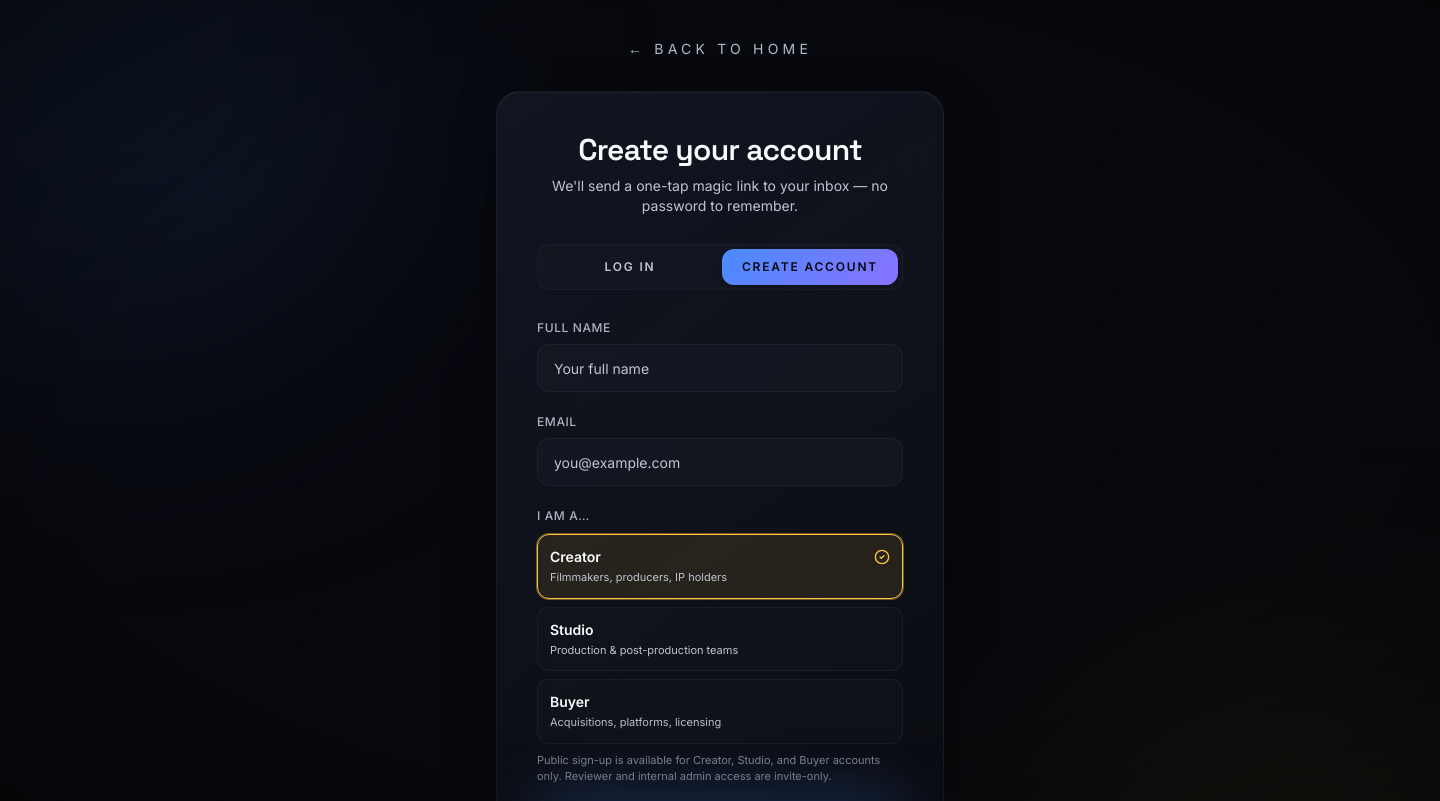
Test: Stop 2 — Create Account page › filling in form and clicking Send transitions to 'Check your inbox' state
Type "Jane Creator" into the field with placeholder "Your full name" at (720, 368), box [537,344,903,392]
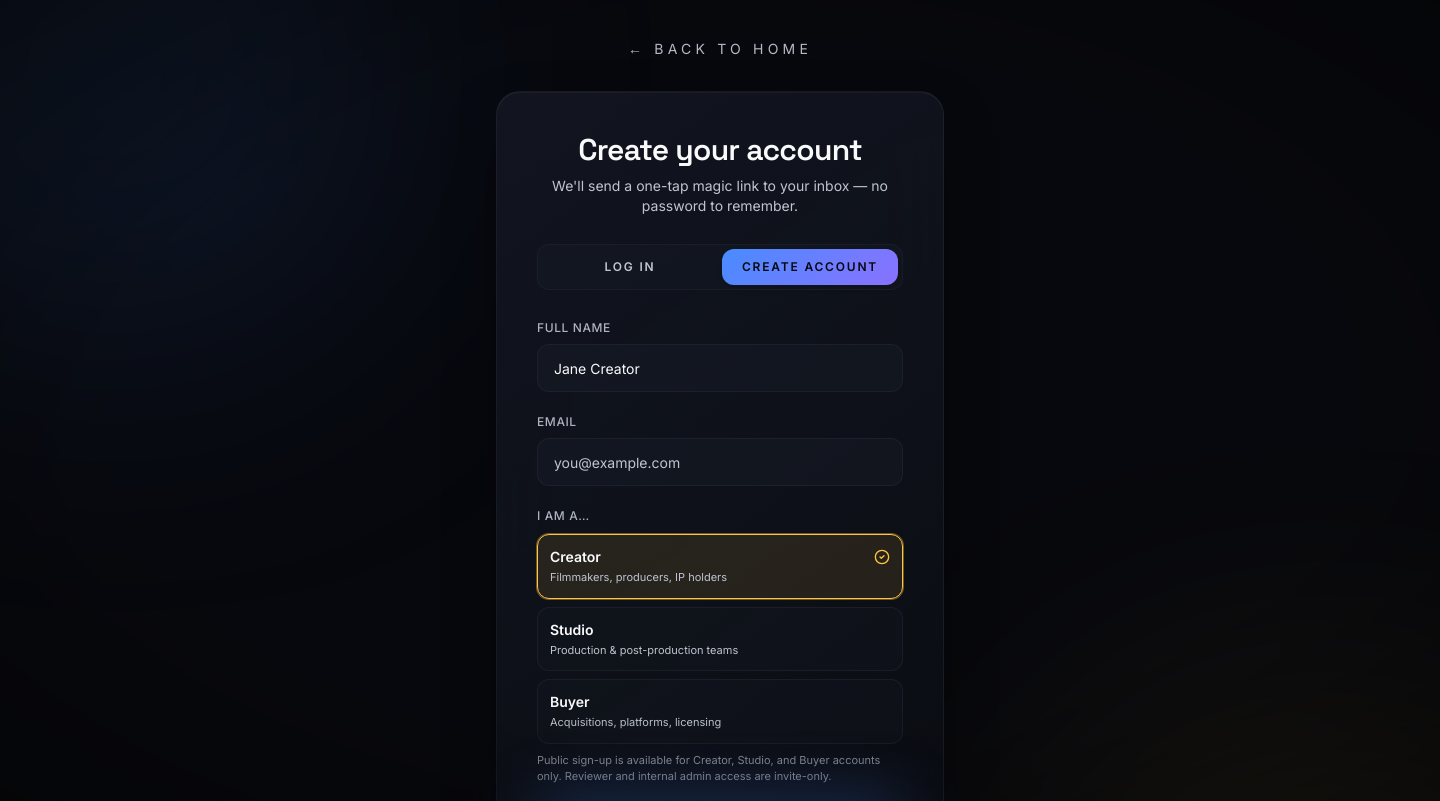
Type "jane@example.com" into the field with placeholder "you@example.com" at (720, 462), box [537,438,903,486]
(page scrolled)
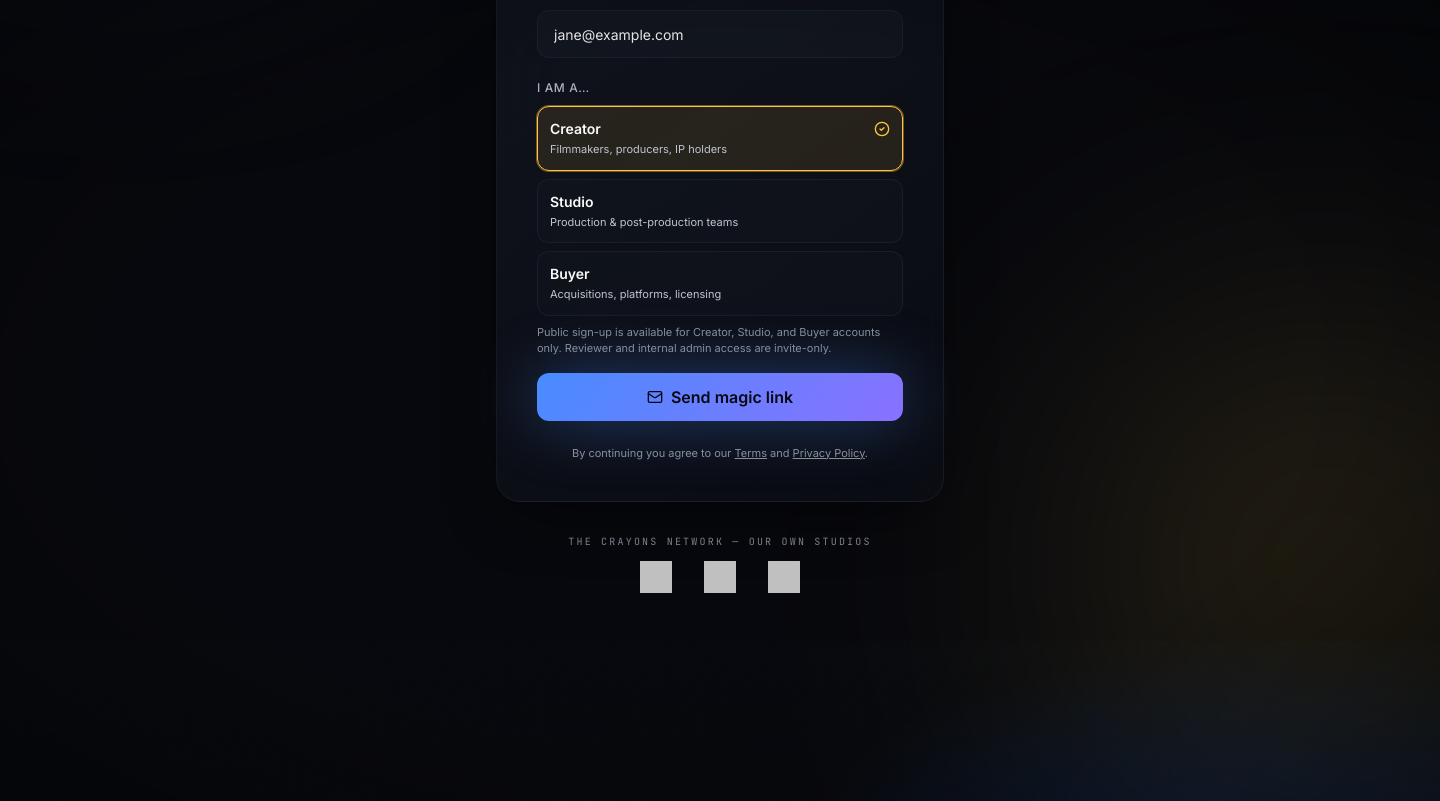
Click the button "Send magic link" at (720, 396), box [537,372,903,420]
(page scrolled)
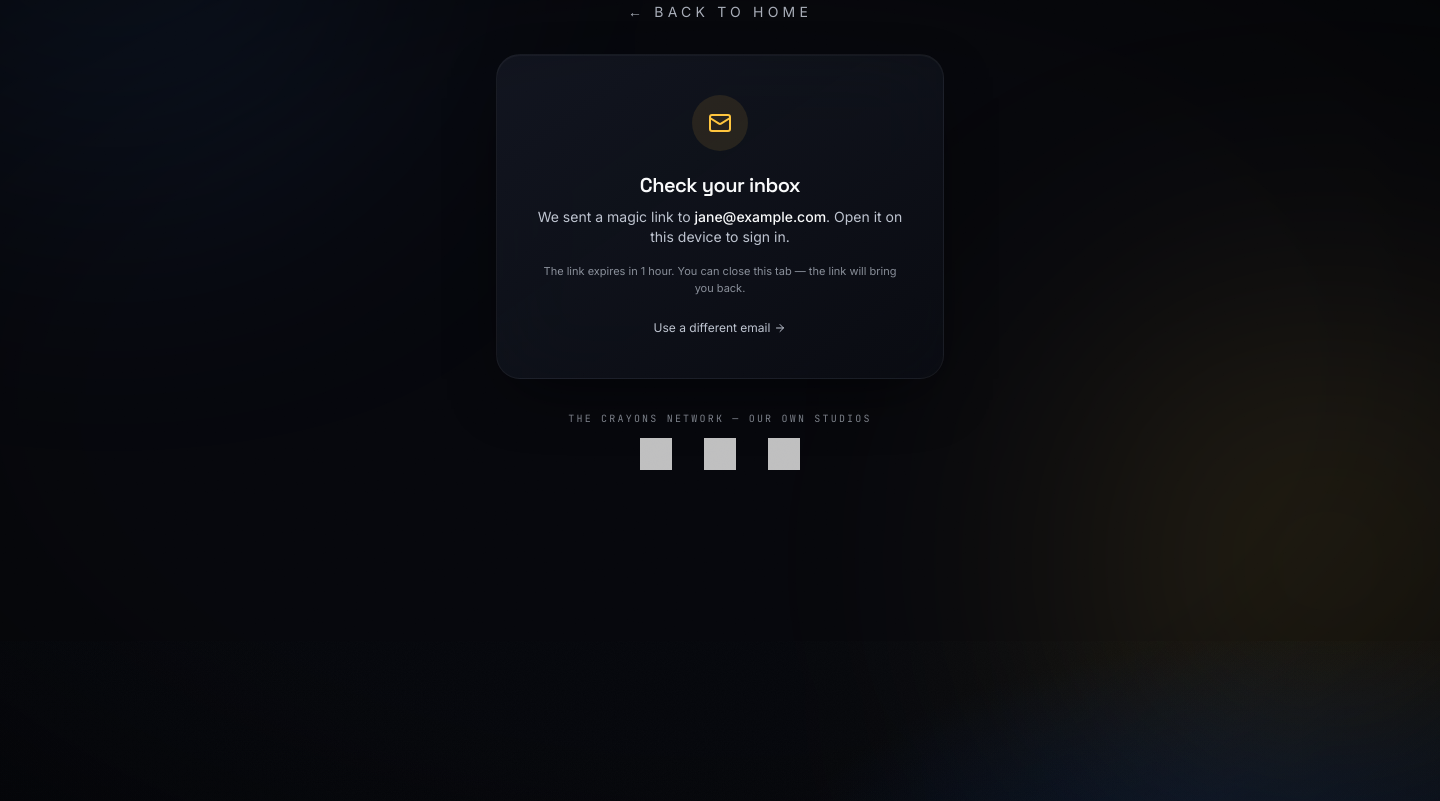
Check: the heading "Check your inbox" is shown, box [640,172,800,198]
Check: the text "jane@example.com" is shown, box [694,208,826,225]
